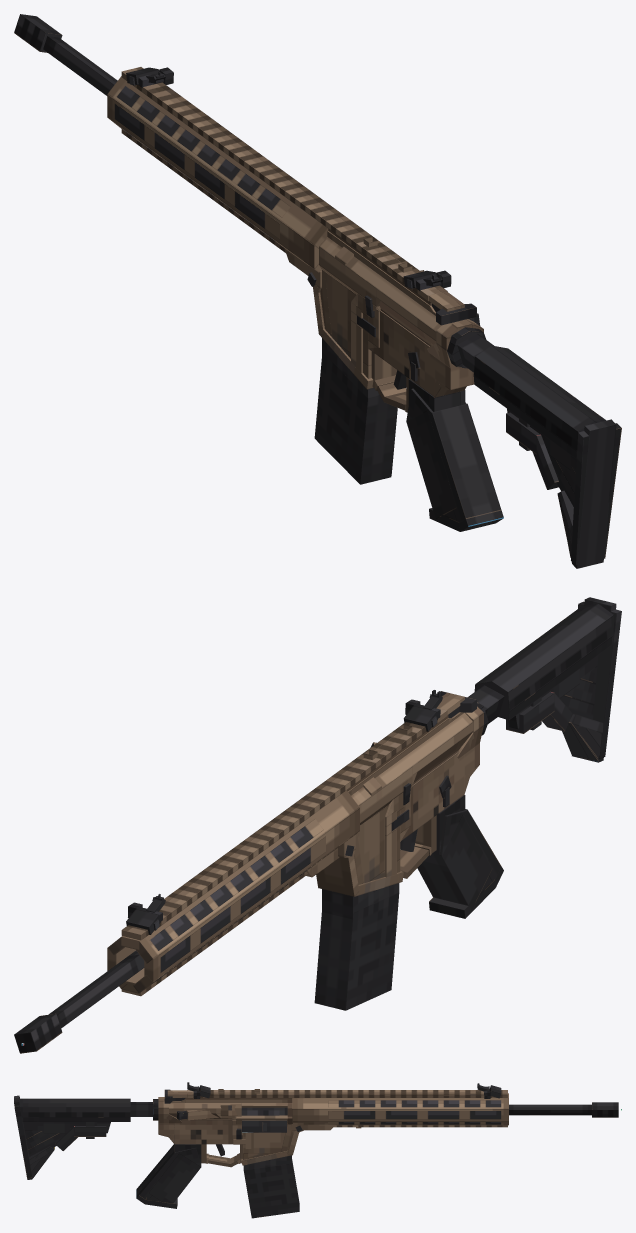
The model's file is uar10.obj.
3 views of the same model, one above another, from view 1: azimuth 30°, elevation 25°; view 2: azimuth 150°, elevation 25°; view 3: azimuth 270°, elevation 25° (orthographic). The views are drawn at different scales.
Parts seen in each view (by area): view 1: gun_108, stock, magazine_2, ironsights_9, ironsights_17; view 2: gun_108, stock, magazine_2, ironsights_9, ironsights_17; view 3: gun_108, stock, magazine_2, bolt_1, ironsights_17, ironsights_9.
Boxes of the visible parts, left/top/right/bottom form: gun_108: left=14, top=14, right=503, bottom=531; stock: left=457, top=334, right=621, bottom=568; magazine_2: left=314, top=338, right=397, bottom=484; ironsights_9: left=403, top=270, right=451, bottom=290; ironsights_17: left=126, top=67, right=173, bottom=87; gun_108: left=14, top=692, right=503, bottom=1053; stock: left=467, top=597, right=621, bottom=762; magazine_2: left=314, top=883, right=399, bottom=1010; ironsights_9: left=403, top=690, right=442, bottom=731; ironsights_17: left=126, top=894, right=165, bottom=934; gun_108: left=136, top=1090, right=618, bottom=1208; stock: left=14, top=1095, right=152, bottom=1179; magazine_2: left=243, top=1155, right=299, bottom=1218; bolt_1: left=241, top=1107, right=287, bottom=1115; ironsights_17: left=477, top=1083, right=501, bottom=1098; ironsights_9: left=187, top=1082, right=210, bottom=1098.
Size of the model in its own units: 0.4065 by 1.68 by 7.06.
